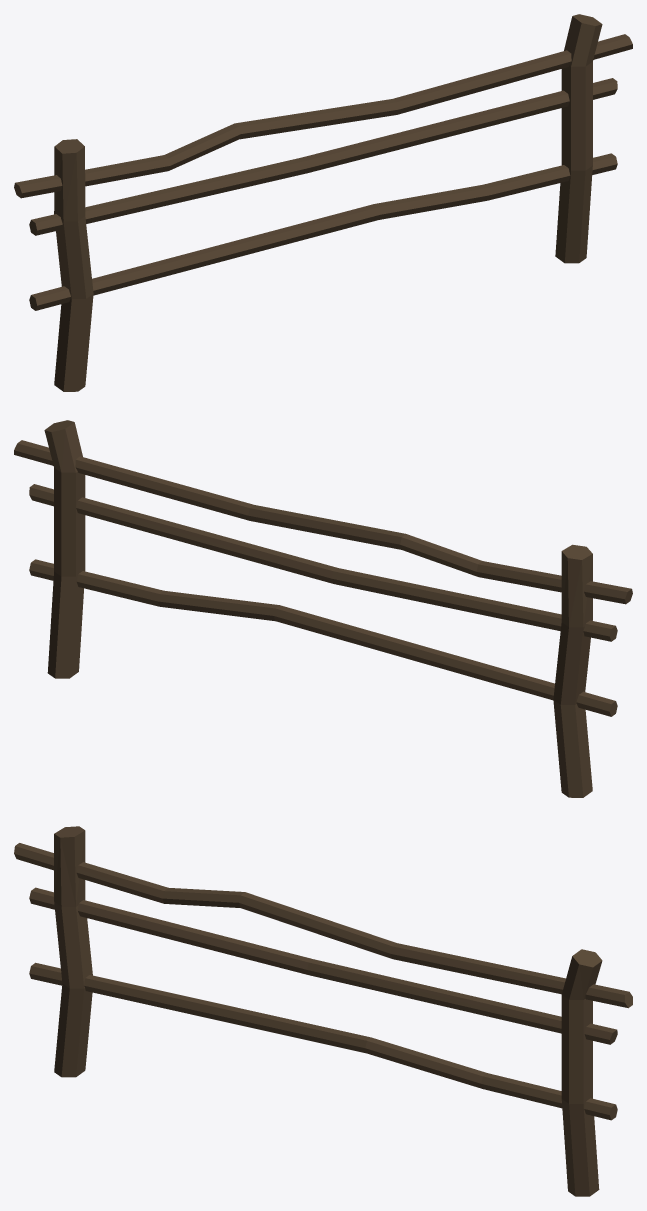
File: SM_Prop_Fence_04.glb
3 renders of one model, top to bottom at view 1: azimuth 30°, elevation 25°; view 2: azimuth 150°, elevation 25°; view 3: azimuth 330°, elevation 25°, orthographic.
Visible parts, largest first — view 1: SM_Prop_Fence_04_part00; view 2: SM_Prop_Fence_04_part00; view 3: SM_Prop_Fence_04_part00.
Part boxes in pixels (left/top/right/bottom): SM_Prop_Fence_04_part00: left=14, top=14, right=632, bottom=391; SM_Prop_Fence_04_part00: left=14, top=420, right=632, bottom=797; SM_Prop_Fence_04_part00: left=14, top=826, right=632, bottom=1196.
Size of the model in its own units: 3.02 by 1.14 by 0.1943.
1 material, 1 textured.
